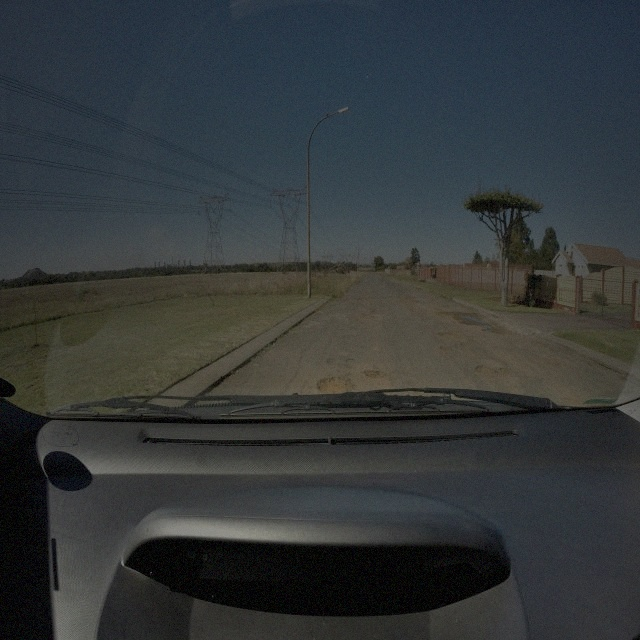pothole: (316, 374, 354, 394), (474, 364, 497, 378), (364, 367, 385, 380), (439, 332, 462, 342), (562, 395, 578, 406), (501, 368, 512, 374), (362, 313, 371, 320), (442, 346, 452, 352)
